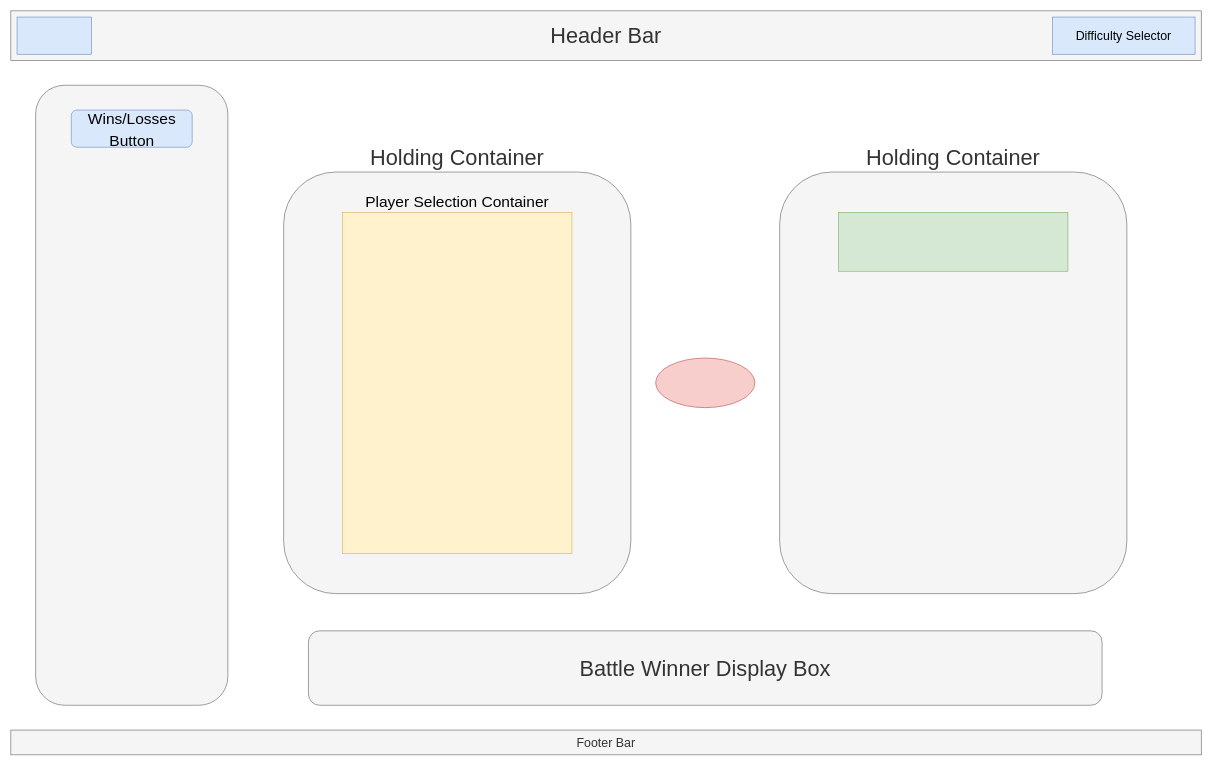
This 1212x766 diagram has some shape labels left out. The box of each missing label's shape, as (x1, y1, x2, y2) in pixels:
Battle Button: (655, 357, 755, 408)
Computer Container: (838, 212, 1068, 271)
Scrollable Container: (35, 85, 228, 705)
Setup Battle Button: (16, 16, 91, 54)
